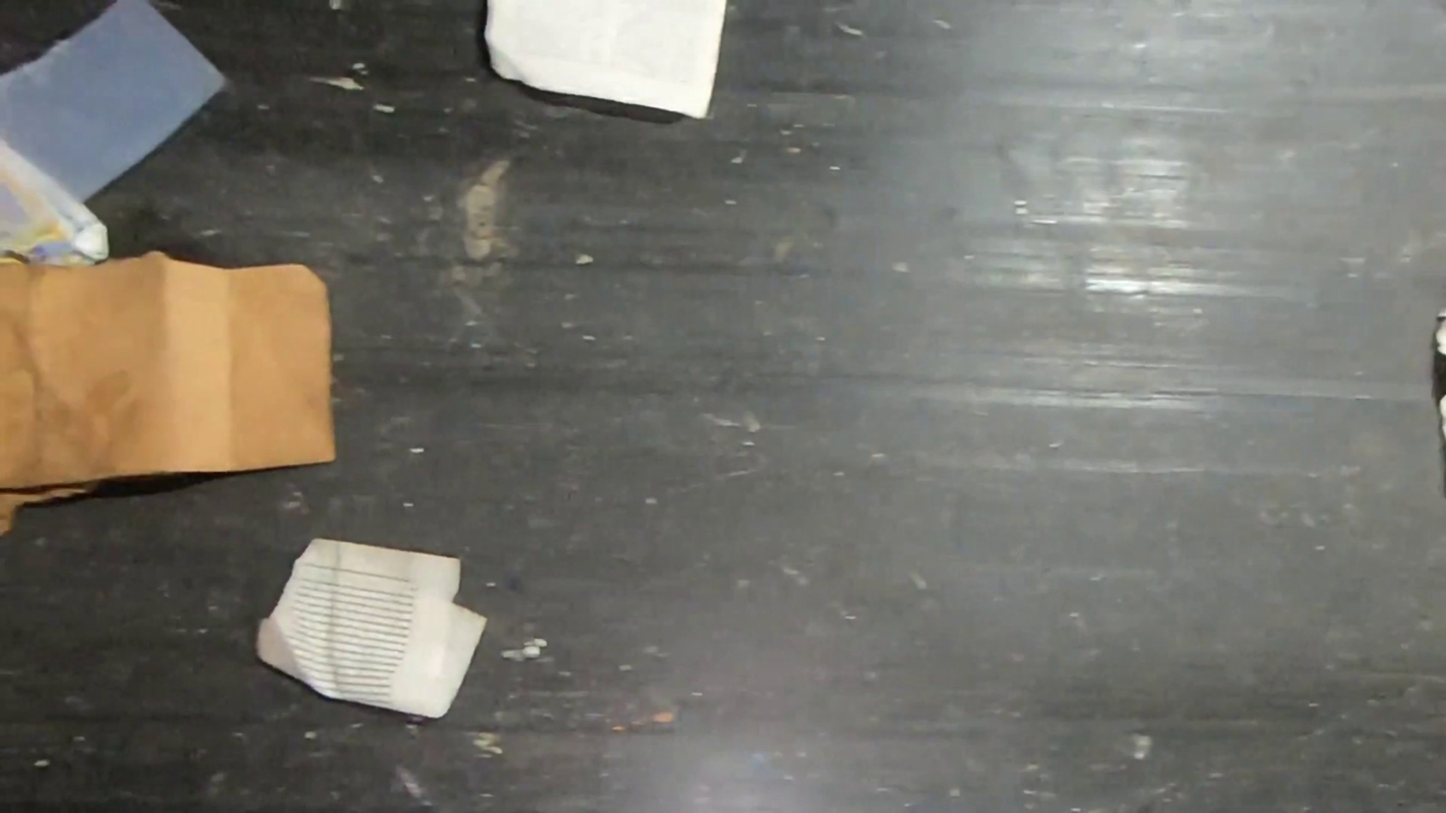cardboard: (0, 249, 339, 542)
plastic: (0, 0, 230, 205)
